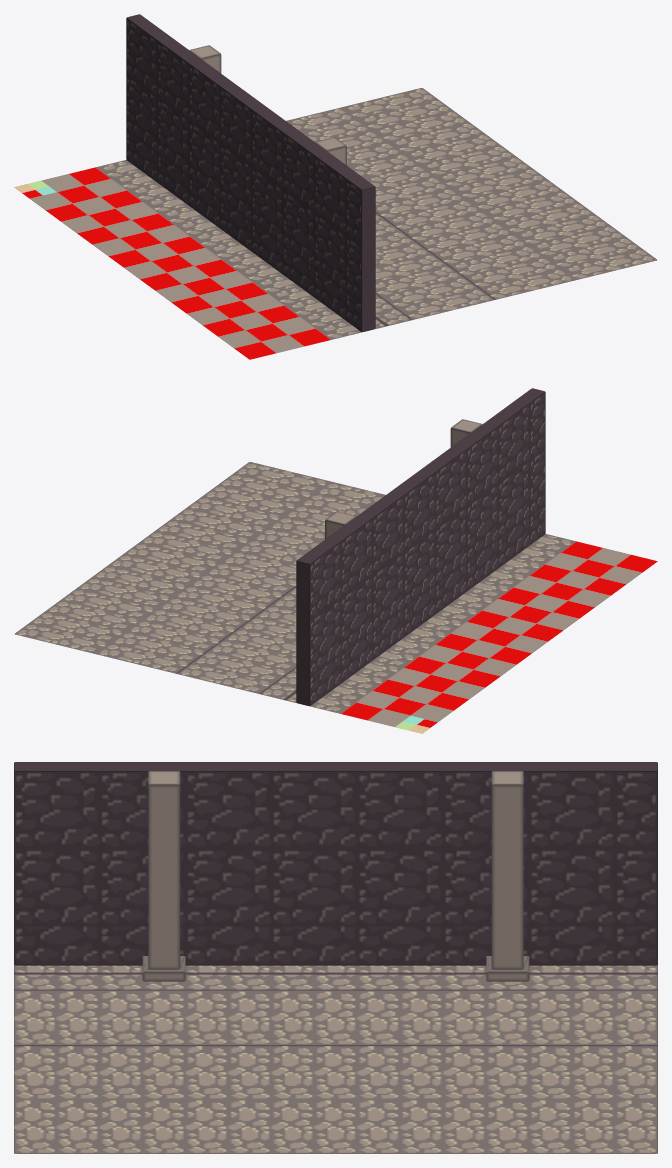
The model's file is ER-DungeonLevelv1.fbx.
The picture shows the model from 3 angles, top to bottom: view 1: azimuth 30°, elevation 25°; view 2: azimuth 150°, elevation 25°; view 3: azimuth 270°, elevation 25°; orthographic projection. The views are drawn at different scales.
Parts seen in each view (by area): view 1: DungeonGround1, Wall; view 2: DungeonGround1, Wall; view 3: DungeonGround1, Wall, Pillar, Pillar_1.
Part boxes in pixels (x1,y1,x2,y2): DungeonGround1: [14, 88, 656, 359]; Wall: [126, 14, 375, 331]; DungeonGround1: [15, 462, 657, 733]; Wall: [296, 388, 545, 705]; DungeonGround1: [14, 965, 657, 1153]; Wall: [14, 762, 657, 965]; Pillar: [142, 771, 185, 981]; Pillar_1: [486, 771, 529, 981].
Bounding box in the file's own units: 1500 × 500 × 1500.
3 materials, 3 textured.
